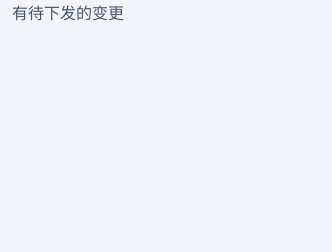
it: carrier state and SOCKS credential versions › after a rotation the carrier is pending with the reason; after the reinstall it is in sync again
The width and height of the screenshot is (332, 252).
Later steps or results of the test are not shown.
Hover over the element with test id "node-state-dc2" at (72, 14), box [12,5,132,22]
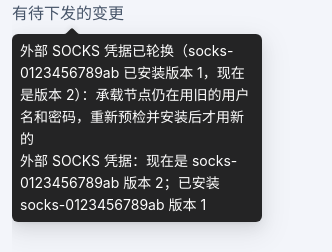
Expected: the tooltip shows "外部 SOCKS 凭据已轮换", [20,42,250,147]
Expected: the tooltip shows "已安装版本 1，现在是版本 2", [20,42,250,147]
